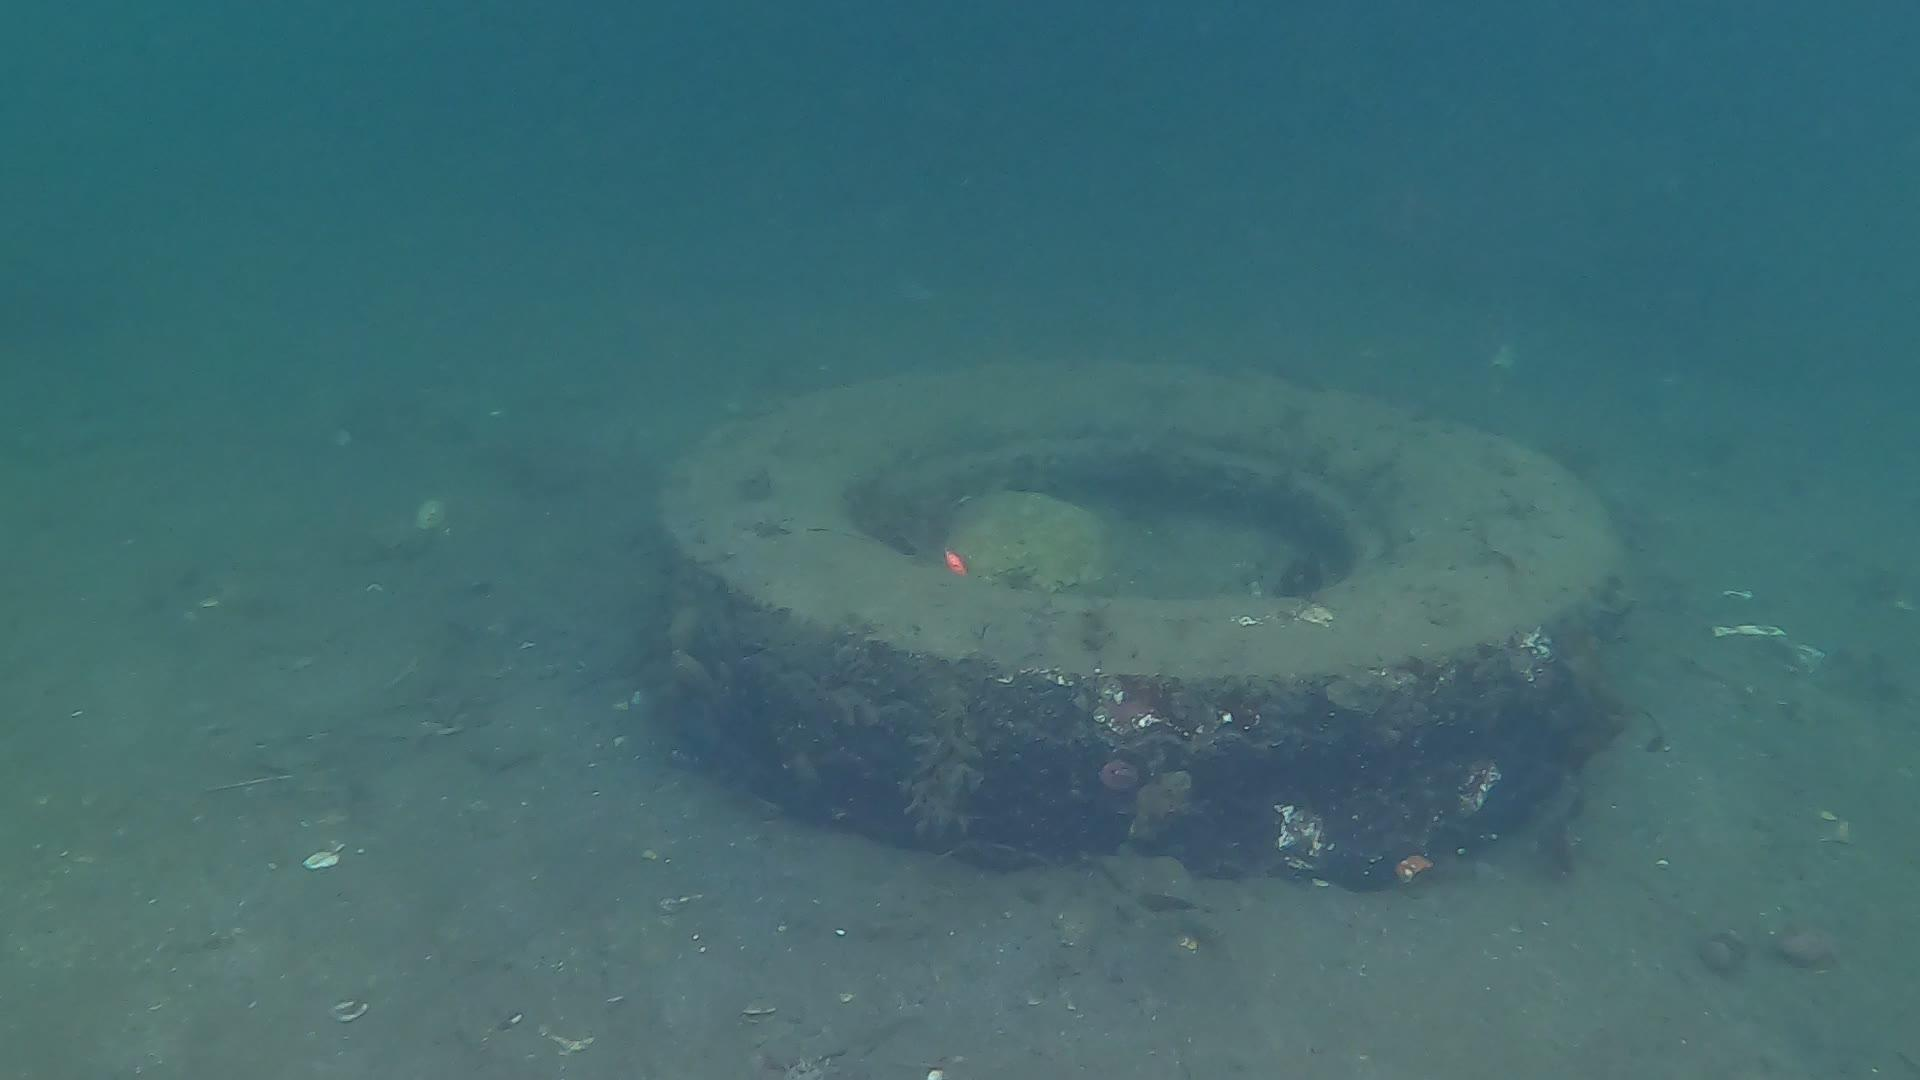tire: (654, 356, 1629, 891)
